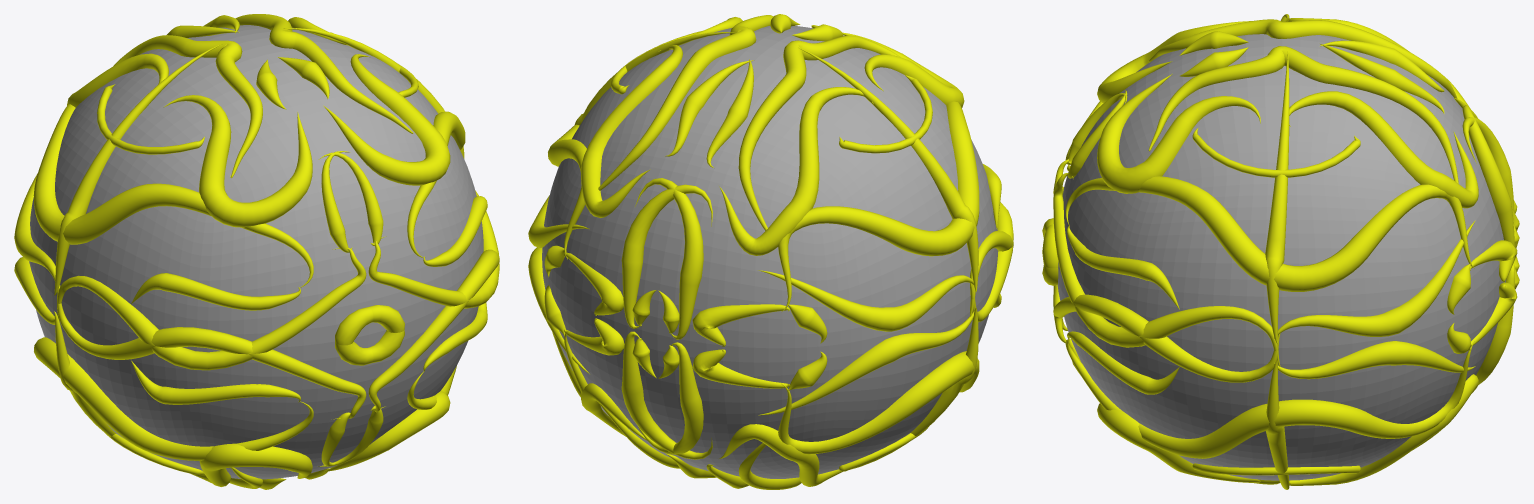
File: Model_Reliquia_Original.fbx
3 renders of one model, left to right at view 1: azimuth 30°, elevation 25°; view 2: azimuth 150°, elevation 25°; view 3: azimuth 270°, elevation 25°, orthographic.
Parts seen in each view (by area): view 1: Cube, BézierCurve.Original; view 2: Cube, BézierCurve.Original; view 3: Cube, BézierCurve.Original.
Part boxes in pixels (x1,y1,x2,y2): Cube: (29,25,483,479); BézierCurve.Original: (14,14,499,489); Cube: (542,26,998,478); BézierCurve.Original: (528,14,1013,489); Cube: (1057,34,1506,480); BézierCurve.Original: (1042,14,1519,489).
Size of the model in its own units: 262 by 265 by 264.
